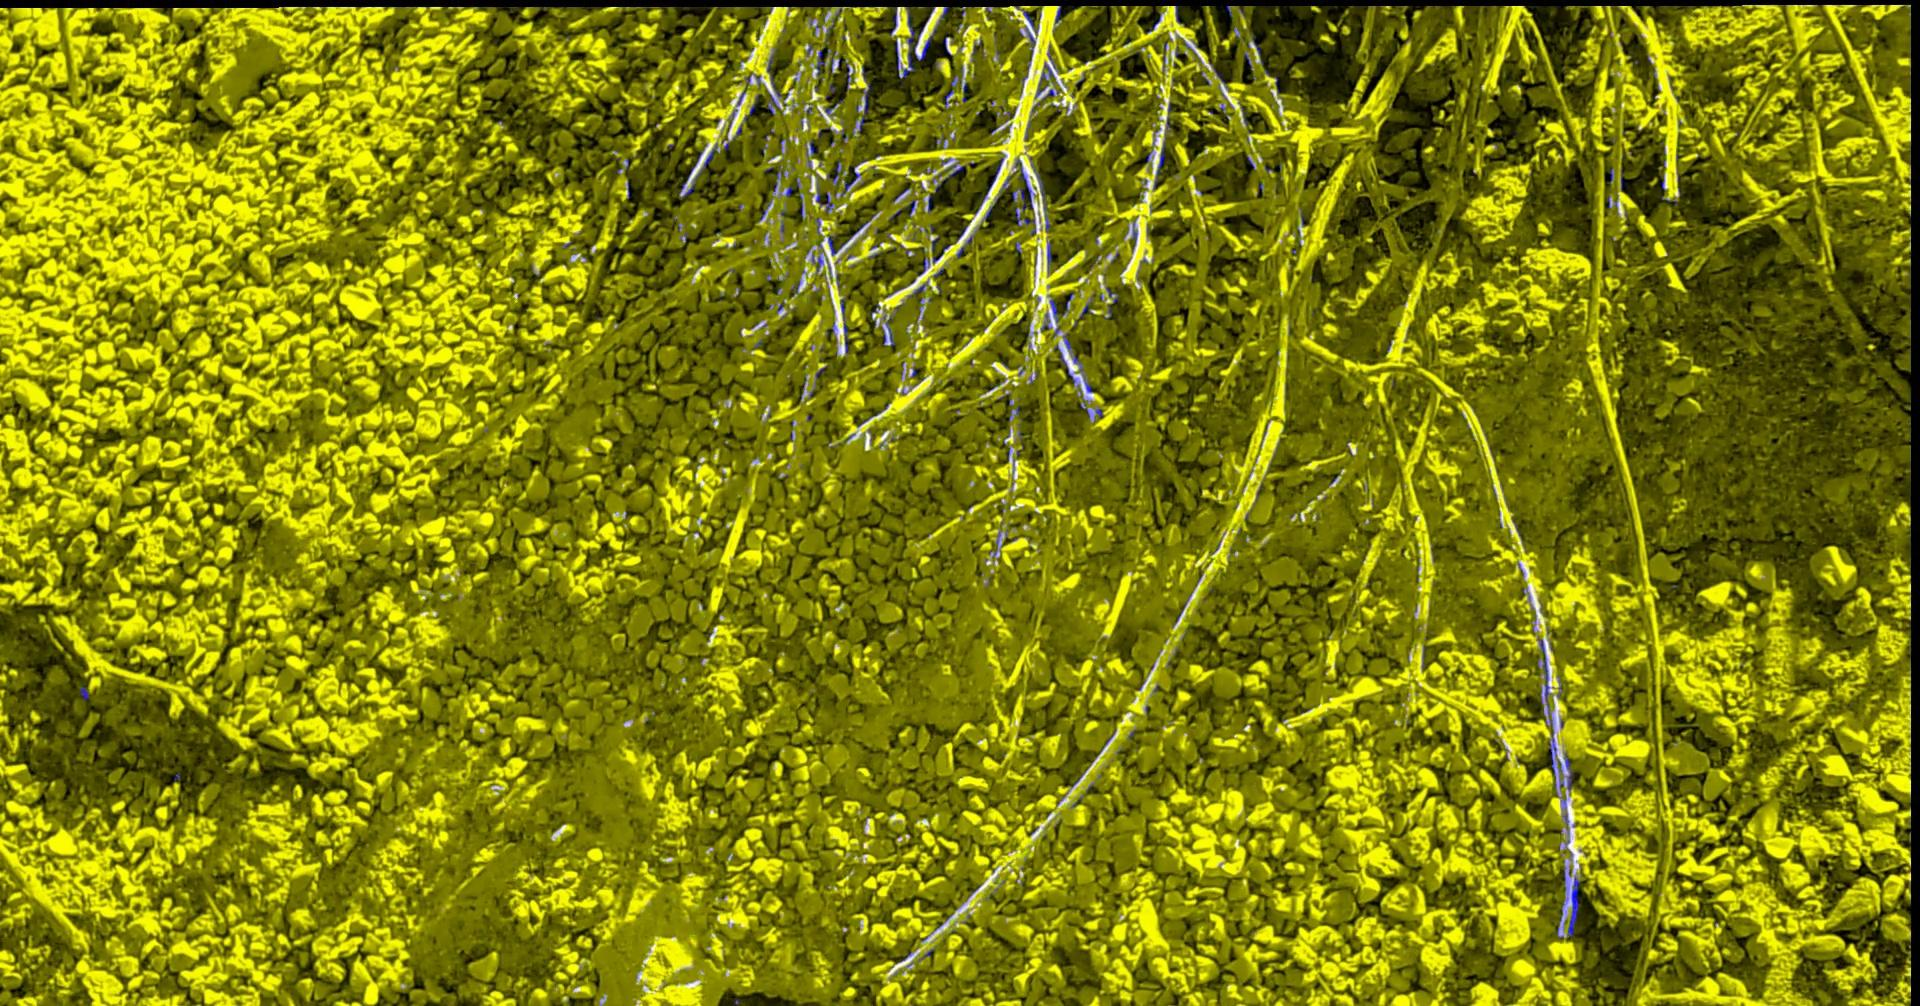ant: (897, 6, 950, 83), (679, 144, 719, 197), (1032, 44, 1062, 113), (1015, 158, 1037, 235), (1550, 729, 1575, 795), (977, 158, 1004, 213), (1031, 156, 1051, 232), (830, 218, 871, 255), (919, 234, 952, 276), (1539, 638, 1554, 727), (1015, 5, 1040, 55), (1561, 876, 1581, 936), (817, 17, 836, 76), (945, 65, 969, 109), (1051, 292, 1076, 337), (768, 50, 783, 114), (1079, 385, 1103, 419), (856, 83, 872, 131), (1156, 133, 1168, 189), (817, 183, 834, 212), (841, 297, 850, 353), (828, 161, 850, 184), (883, 314, 897, 345), (808, 138, 822, 168), (945, 163, 965, 180), (813, 254, 824, 273)
